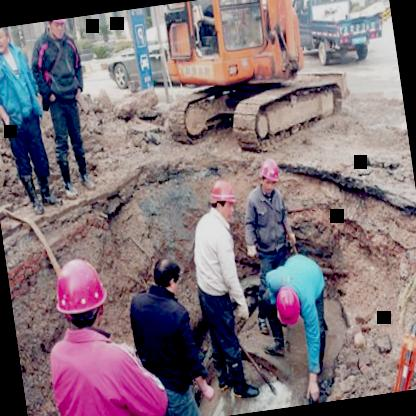head: (146, 248, 190, 302), (0, 26, 14, 56)
helmet: (48, 251, 115, 340), (271, 280, 307, 340), (208, 178, 238, 222), (254, 152, 284, 196), (42, 18, 70, 42)
